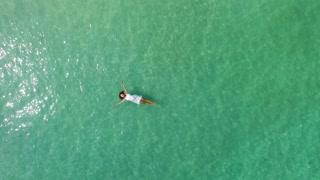swimmer: (114, 80, 158, 107)
